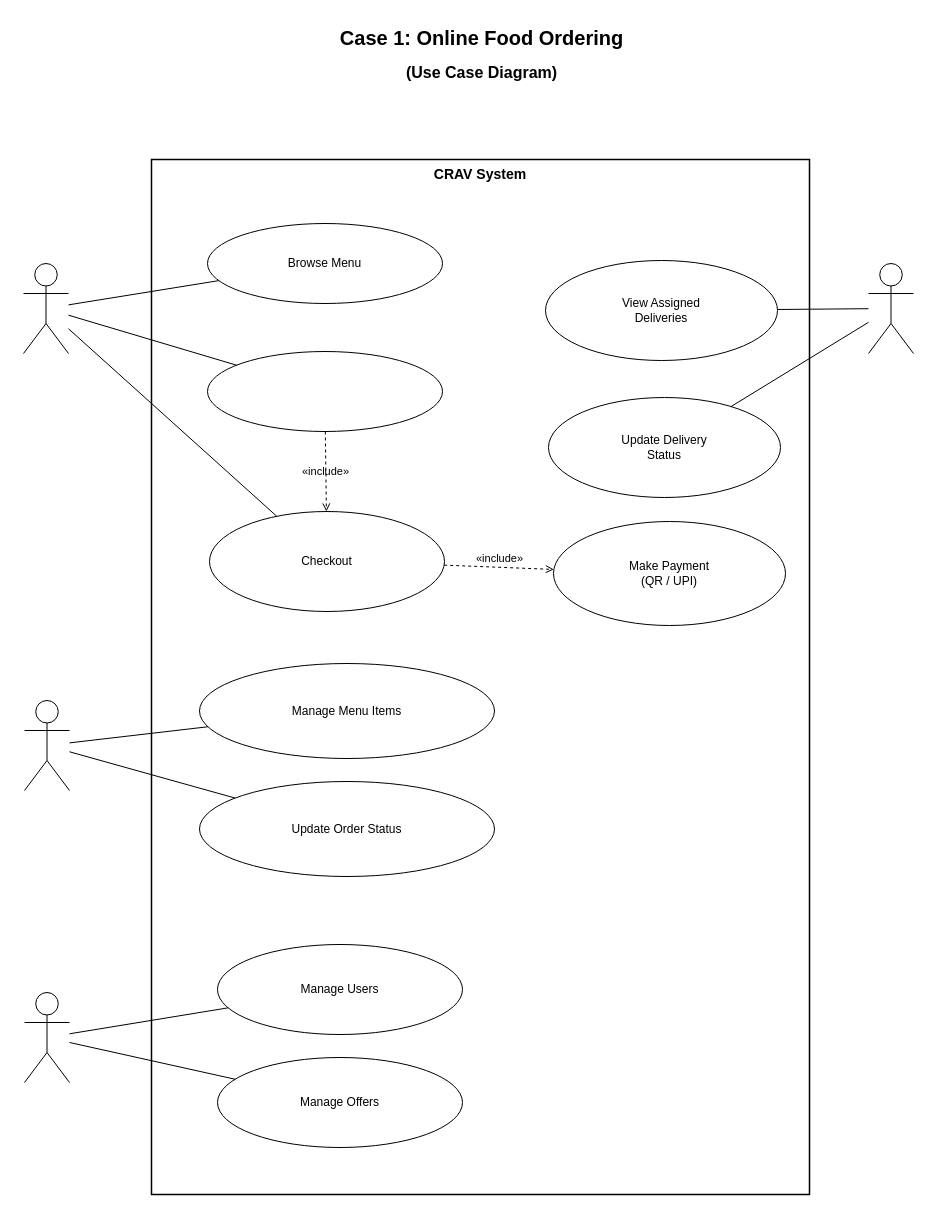
Image size: 931x1212. Some labels were removed from this diagram. Here are the shapes that lost their labels. From the top down, the centre of each, then its label:
(45,308): Customer
(891,308): Delivery Partner
(324,391): Add to Cart
(47,745): Restaurant Staff
(47,1037): Admin
